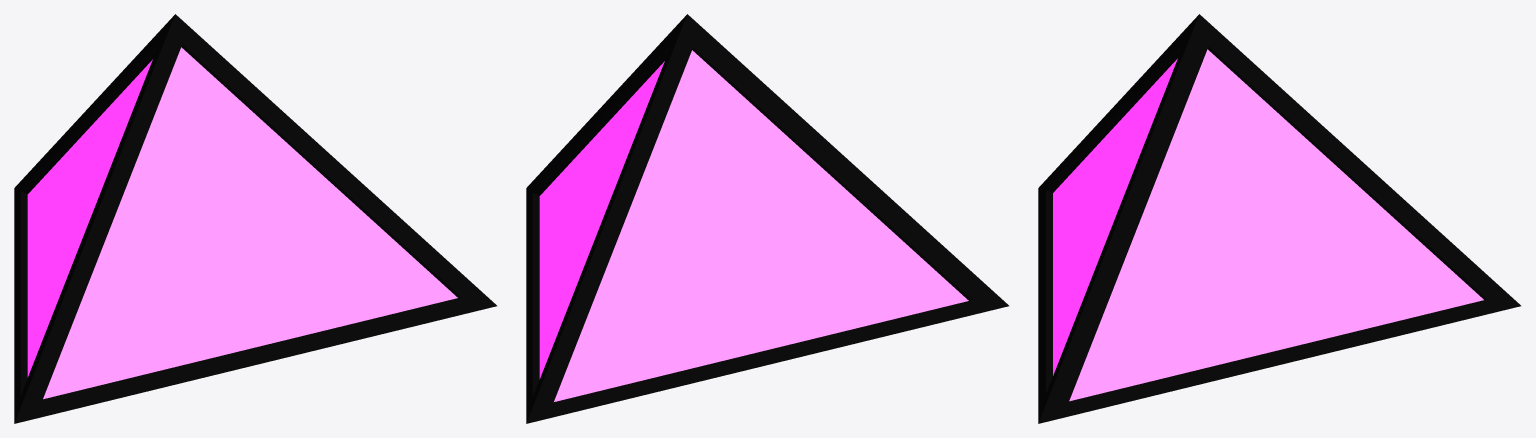
Rendered from SFI0310014.fbx.
3 views of the same model, side by side, from view 1: azimuth 30°, elevation 25°; view 2: azimuth 150°, elevation 25°; view 3: azimuth 270°, elevation 25° (orthographic).
Visible parts, largest first — view 1: smSFI0310014; view 2: smSFI0310014; view 3: smSFI0310014.
Boxes of the visible parts, bbox=[...] form: smSFI0310014: bbox=[14, 14, 496, 423]; smSFI0310014: bbox=[526, 14, 1008, 423]; smSFI0310014: bbox=[1038, 14, 1520, 423].
Bounding box in the file's own units: 173 × 100 × 150.
